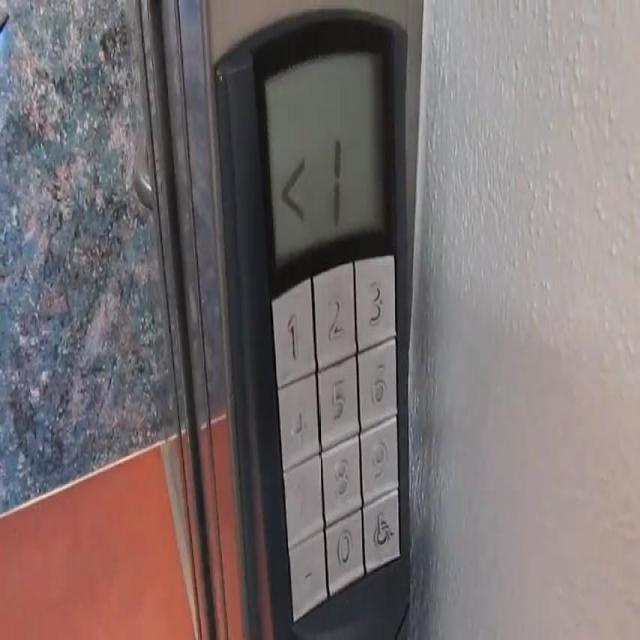-: (287, 526, 328, 622)
0: (323, 509, 363, 599)
1: (269, 277, 317, 387)
2: (310, 259, 357, 372)
3: (353, 252, 397, 348)
4: (276, 372, 321, 471)
5: (316, 353, 360, 452)
6: (356, 338, 397, 433)
8: (320, 435, 362, 525)
9: (360, 416, 398, 508)
CH: (361, 488, 401, 572)
blur: (281, 452, 325, 549)
led: (250, 19, 397, 297)
